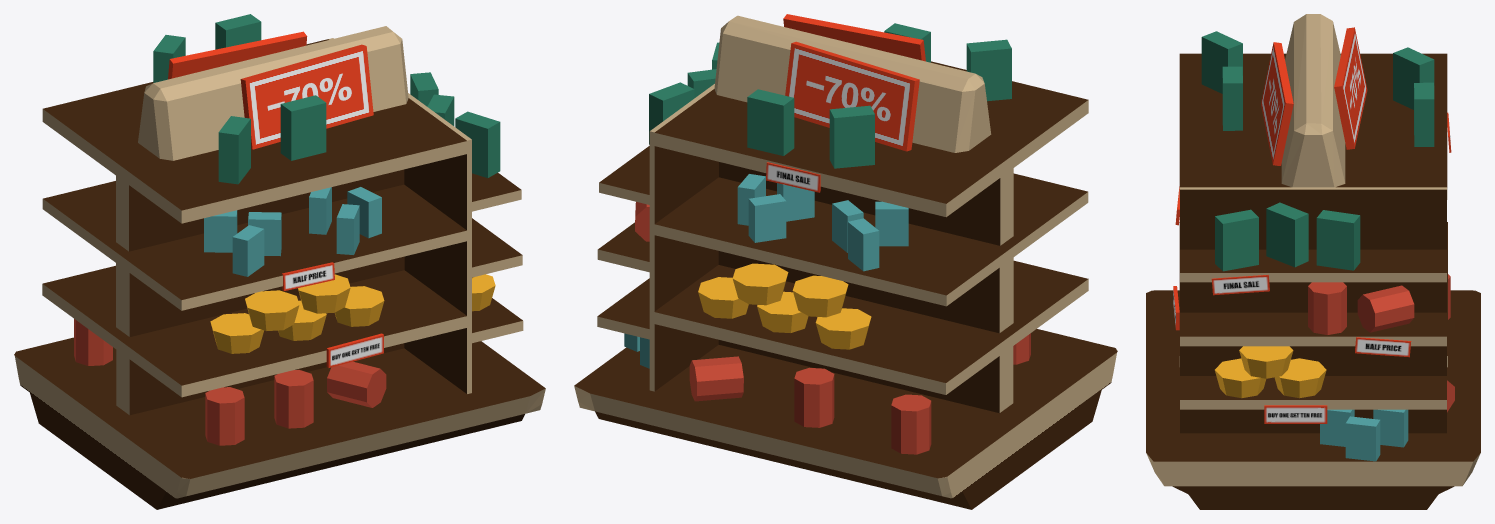
The model's file is DECO_MISCELLANEOUS SHELF.fbx.
The picture shows the model from 3 angles, left to right: view 1: azimuth 30°, elevation 25°; view 2: azimuth 150°, elevation 25°; view 3: azimuth 270°, elevation 25°; orthographic projection. The views are drawn at different scales.
Parts seen in each view (by area): view 1: pCube49, polySurface10, pCube65, polySurface11, pCylinder33, pCylinder26, pCylinder27, pCube57, pCube72, pCylinder30, pCylinder29, pCylinder31 (+15 smaller); view 2: pCube49, polySurface11, pCube74, pCube73, polySurface10, pCylinder41, pCylinder39, pCube72, pCylinder40, pCylinder35, pCylinder37, pCylinder38 (+11 smaller); view 3: pCube49, polySurface10, polySurface11, pCube59, pCube57, pCube58, pCylinder22, pCylinder21, pCube72, pCube73, pCylinder24, pCube62 (+9 smaller).
Part boxes in pixels (left/top/right/bottom): pCube49: left=14, top=26, right=545, bottom=509; polySurface10: left=240, top=44, right=373, bottom=149; pCube65: left=280, top=95, right=326, bottom=160; polySurface11: left=168, top=31, right=307, bottom=79; pCylinder33: left=205, top=387, right=244, bottom=445; pCylinder26: left=274, top=369, right=313, bottom=428; pCylinder27: left=327, top=361, right=386, bottom=407; pCube57: left=455, top=111, right=500, bottom=178; pCube72: left=218, top=116, right=250, bottom=184; pCylinder30: left=245, top=290, right=299, bottom=330; pCylinder29: left=210, top=313, right=263, bottom=353; pCylinder31: left=335, top=286, right=384, bottom=326; pCube49: left=574, top=15, right=1117, bottom=509; polySurface11: left=785, top=41, right=919, bottom=151; pCube74: left=747, top=89, right=794, bottom=155; pCube73: left=829, top=105, right=874, bottom=168; polySurface10: left=783, top=14, right=925, bottom=61; pCylinder41: left=891, top=394, right=931, bottom=454; pCylinder39: left=794, top=367, right=834, bottom=427; pCube72: left=966, top=39, right=1011, bottom=101; pCylinder40: left=689, top=356, right=743, bottom=401; pCylinder35: left=732, top=263, right=788, bottom=305; pCylinder37: left=792, top=275, right=848, bottom=317; pCylinder38: left=815, top=308, right=871, bottom=349; pCube49: left=1146, top=14, right=1480, bottom=509; polySurface10: left=1261, top=42, right=1293, bottom=165; polySurface11: left=1334, top=27, right=1367, bottom=149; pCube59: left=1316, top=210, right=1360, bottom=270; pCube57: left=1215, top=209, right=1258, bottom=271; pCube58: left=1266, top=202, right=1308, bottom=267; pCylinder22: left=1357, top=285, right=1414, bottom=332; pCylinder21: left=1308, top=282, right=1346, bottom=334; pCube72: left=1201, top=31, right=1242, bottom=93; pCube73: left=1393, top=47, right=1434, bottom=109; pCylinder24: left=1274, top=358, right=1326, bottom=398; pCube62: left=1345, top=416, right=1380, bottom=461.
Bounding box in the file's own units: 12.92 × 12.49 × 10.64.
Materials: 9 (9 with a texture image).
